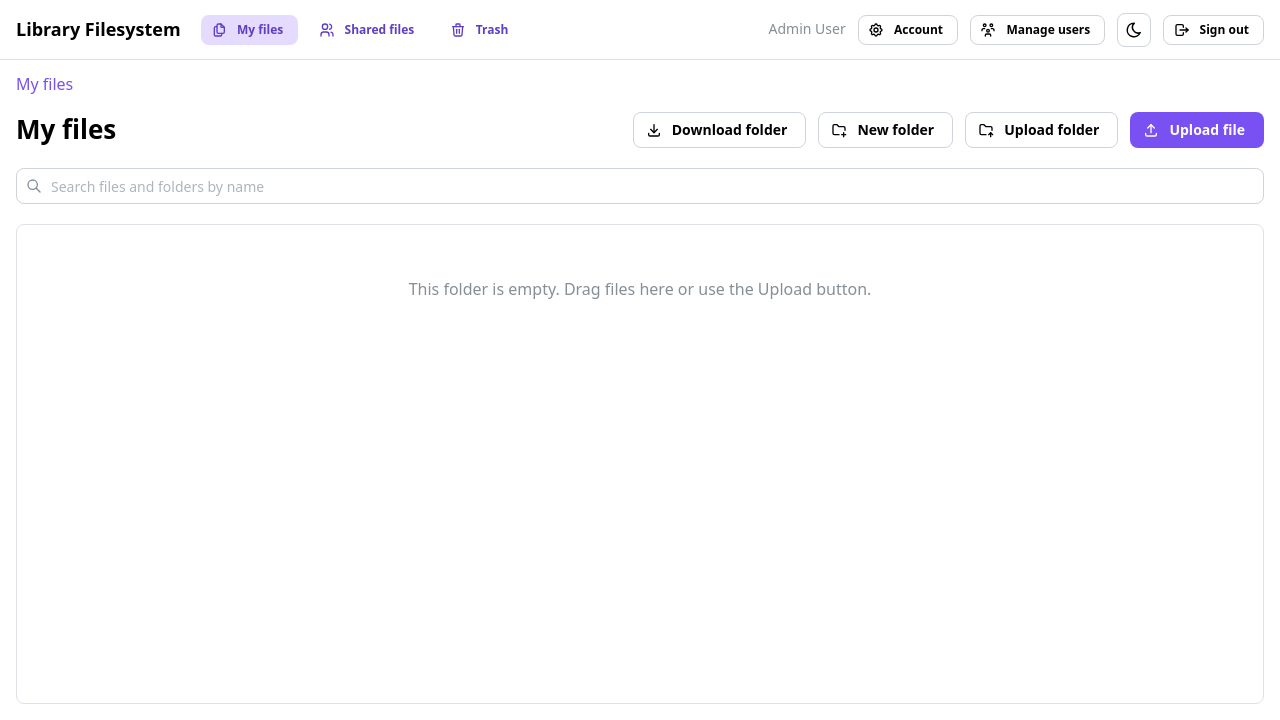
it: App › lets an admin open the user management page
Expected: the heading "My files" is shown, [16,112,116,148]
Click the button "Manage users" at coordinates (1038, 30), box [970,14,1105,44]
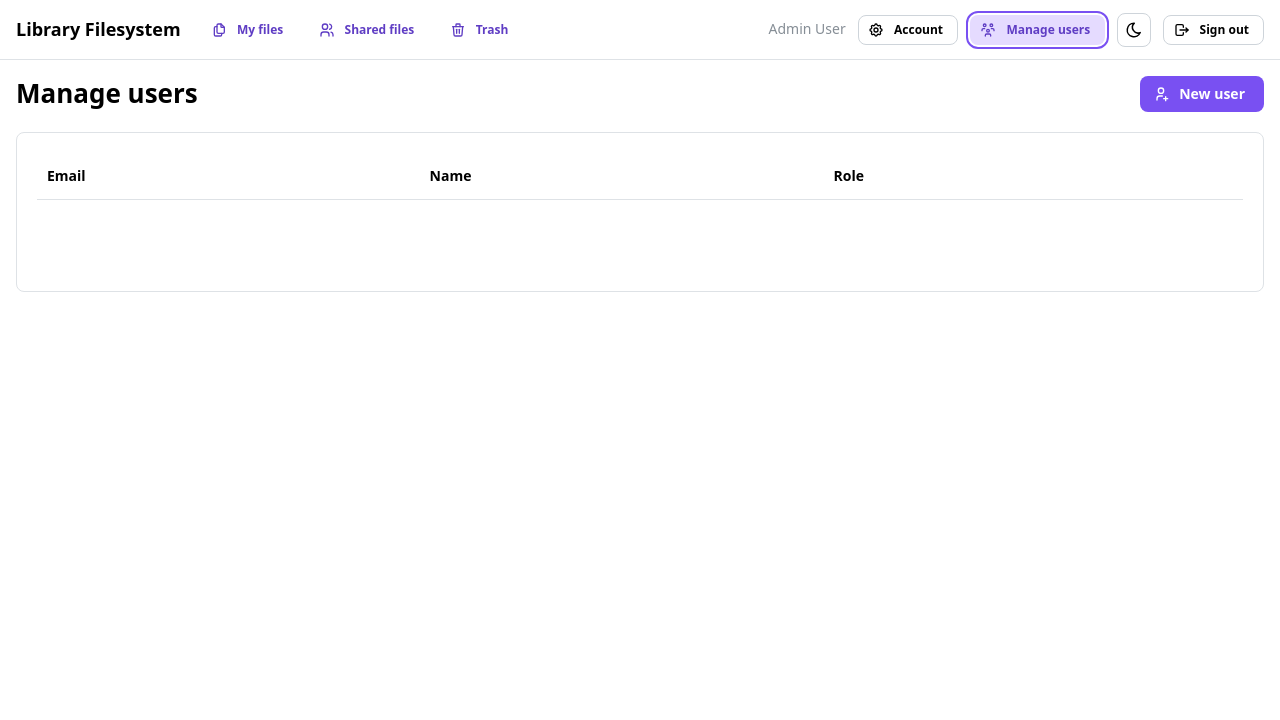
Now the heading "Manage users" is shown, box [16,76,198,112]
